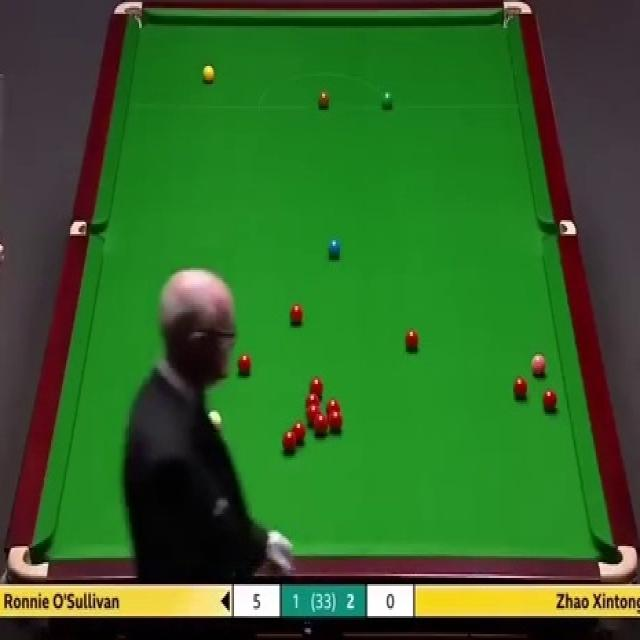pocket: (596, 540, 640, 582), (7, 542, 50, 582), (500, 0, 532, 29), (112, 0, 143, 26), (536, 220, 579, 238), (68, 221, 102, 237)
